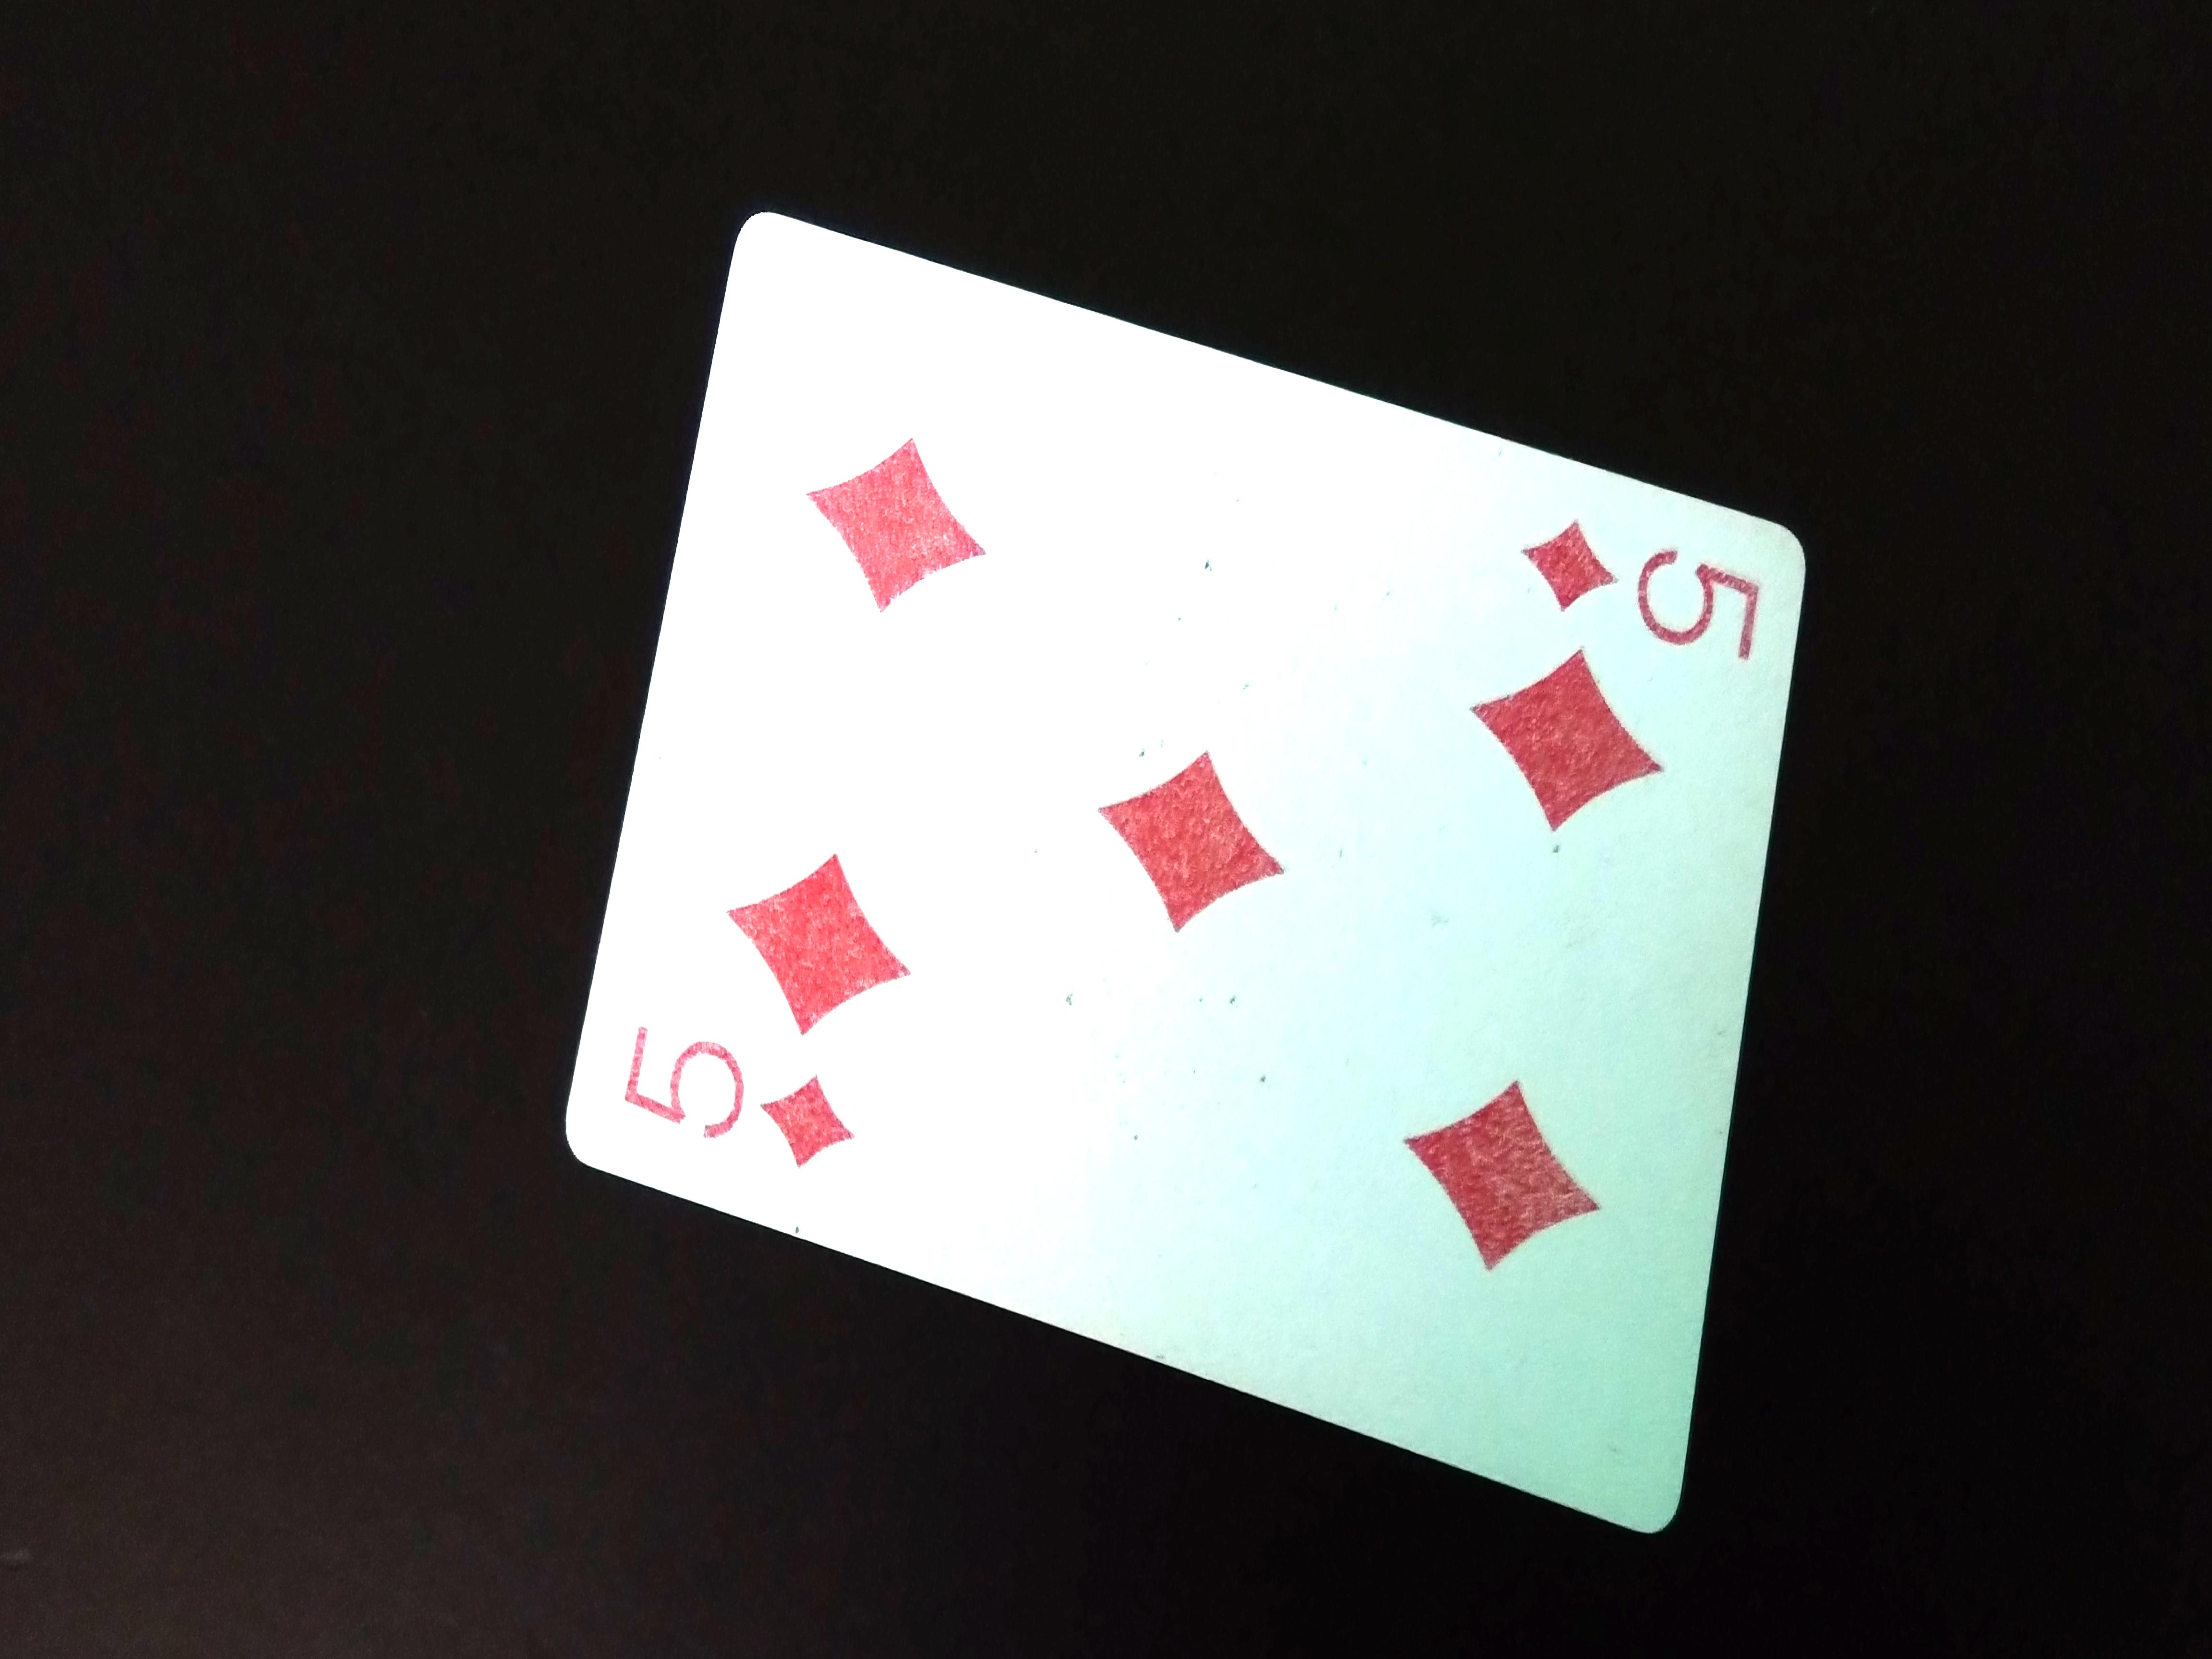5D: (1529, 516, 1782, 687)
